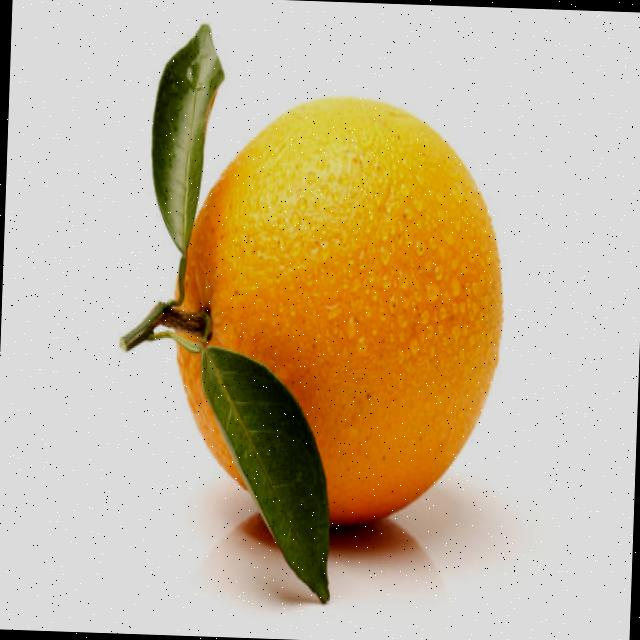Ripe: (168, 77, 514, 536)
